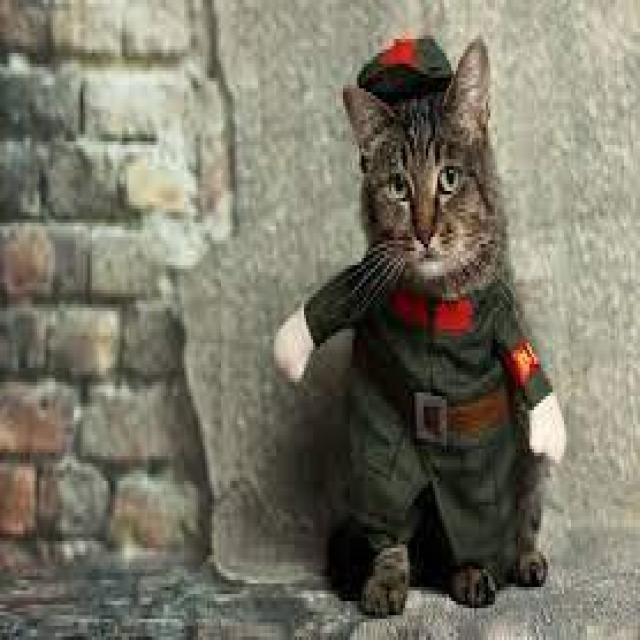Cat: (332, 55, 513, 286)
